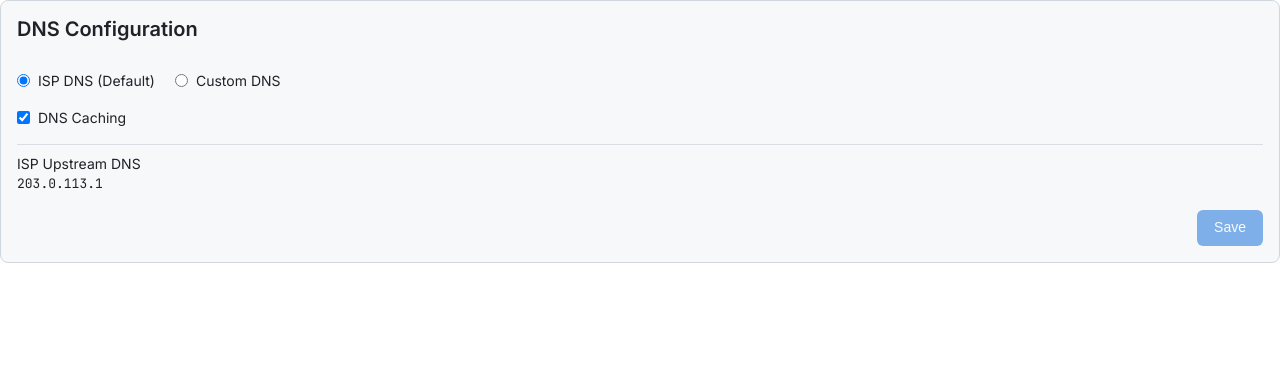
DnsSettingsCard › enables Save from a caching-only change, even with an in-progress invalid servers edit
Expected: the text "ISP DNS (Default)" is shown, [38,70,155,91]
Click the radio button labelled "Custom DNS" at (182, 80), box [175,74,188,87]
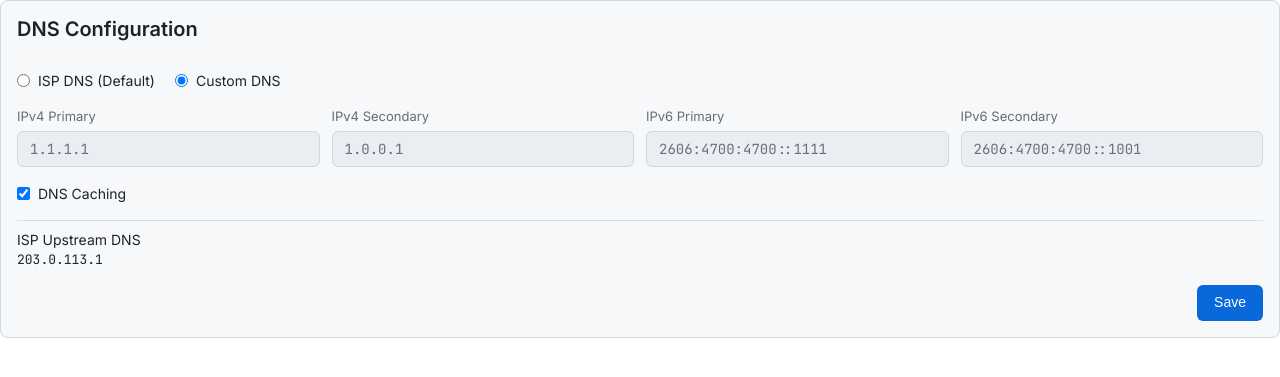
Type "not-an-ip" into the field labelled "IPv4 Primary" at (168, 148), box [17,130,320,166]
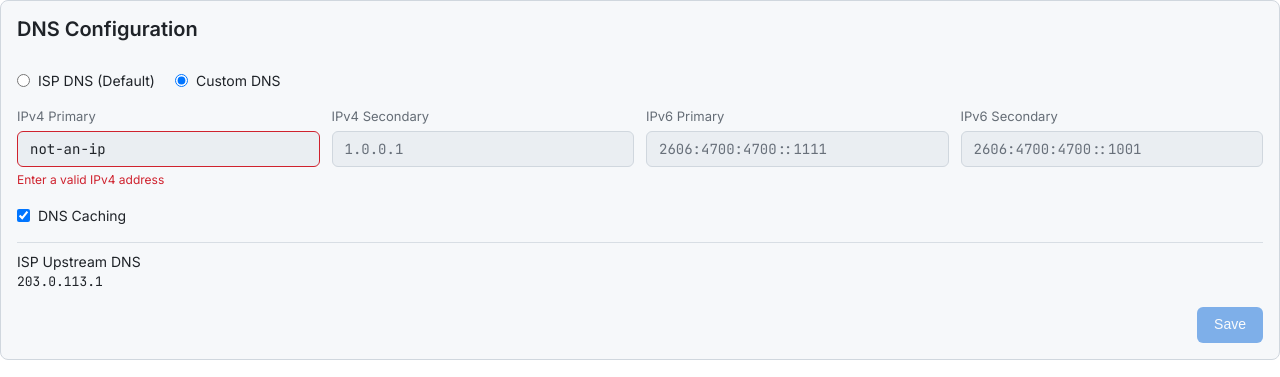
Now the button "Save" is disabled, box [1197,307,1263,343]
Click the checkbox labelled "DNS Caching" at (24, 215), box [17,208,30,222]
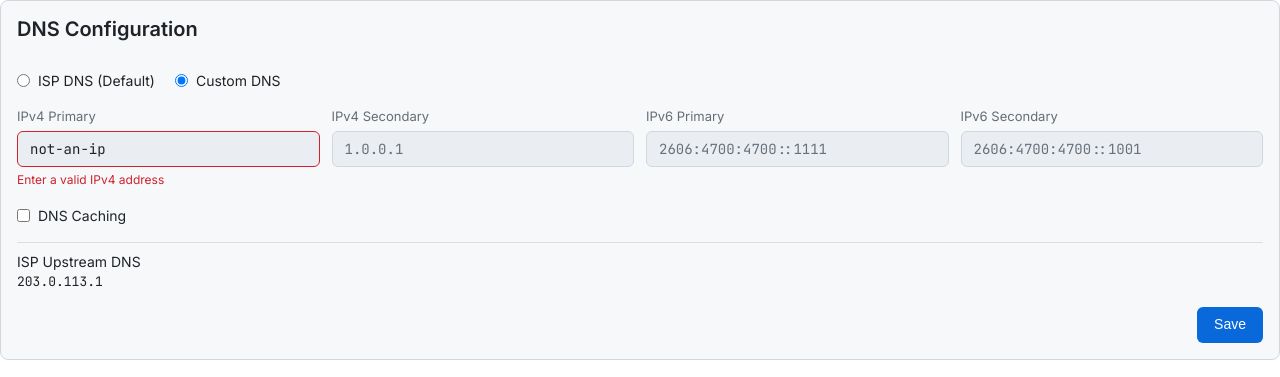
Now the button "Save" is enabled, box [1197,307,1263,343]
